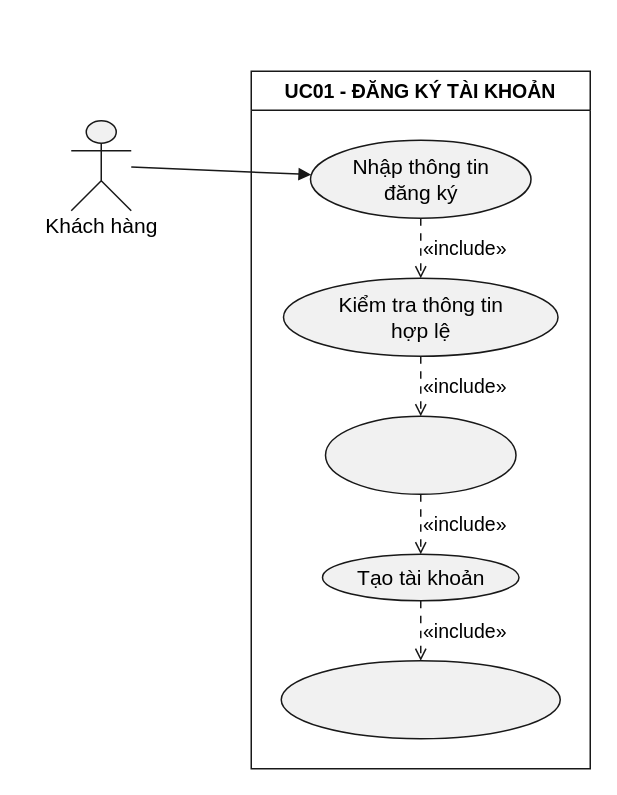
Some shapes in this 617 by 795 pixel diagram are drawn without their labels. Here are the shapes that lost their labels. From the top down, the centre of each, then its label:
point 420,454: Kiểm tra tên đăng nhập
point 420,699: Thông báo kết quả đăng ký
